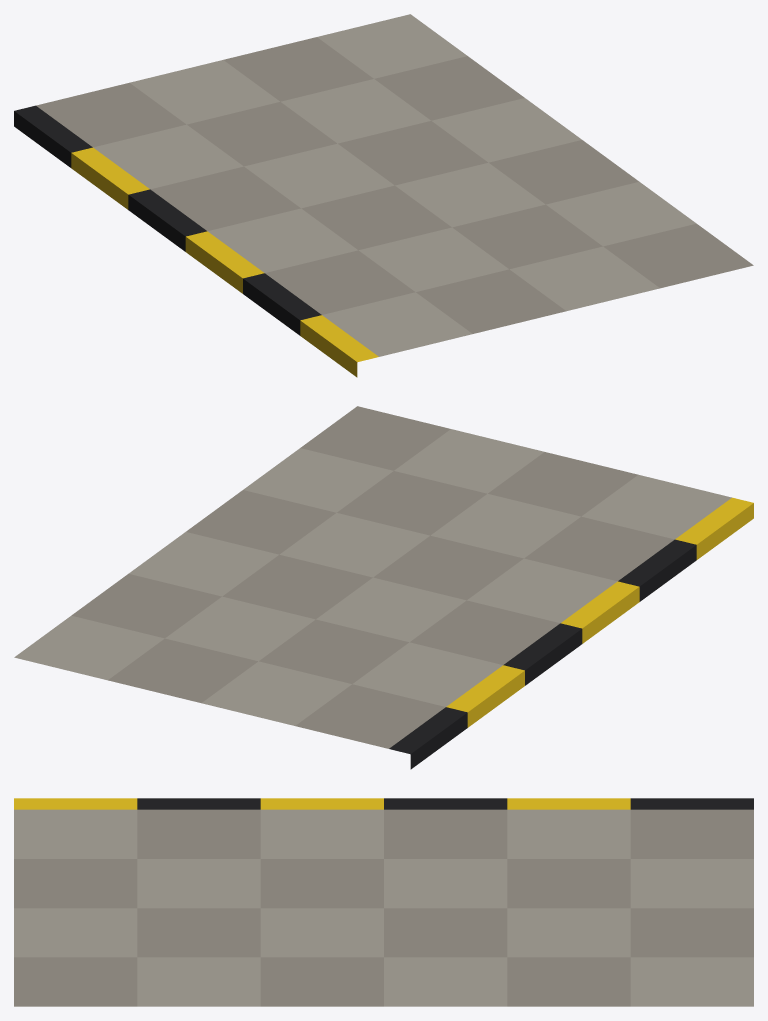
The model's file is road_walk_main.glb.
3 views of the same model, one above another, from view 1: azimuth 30°, elevation 25°; view 2: azimuth 150°, elevation 25°; view 3: azimuth 270°, elevation 25° (orthographic). The views are drawn at different scales.
Visible parts, largest first — view 1: road_walk_main; view 2: road_walk_main; view 3: road_walk_main.
Part boxes in pixels (x1,y1,x2,y2): road_walk_main: (14,14,753,377); road_walk_main: (14,406,753,769); road_walk_main: (14,798,753,1006).
Bounding box in the file's own units: 4 × 0.15 × 6.
